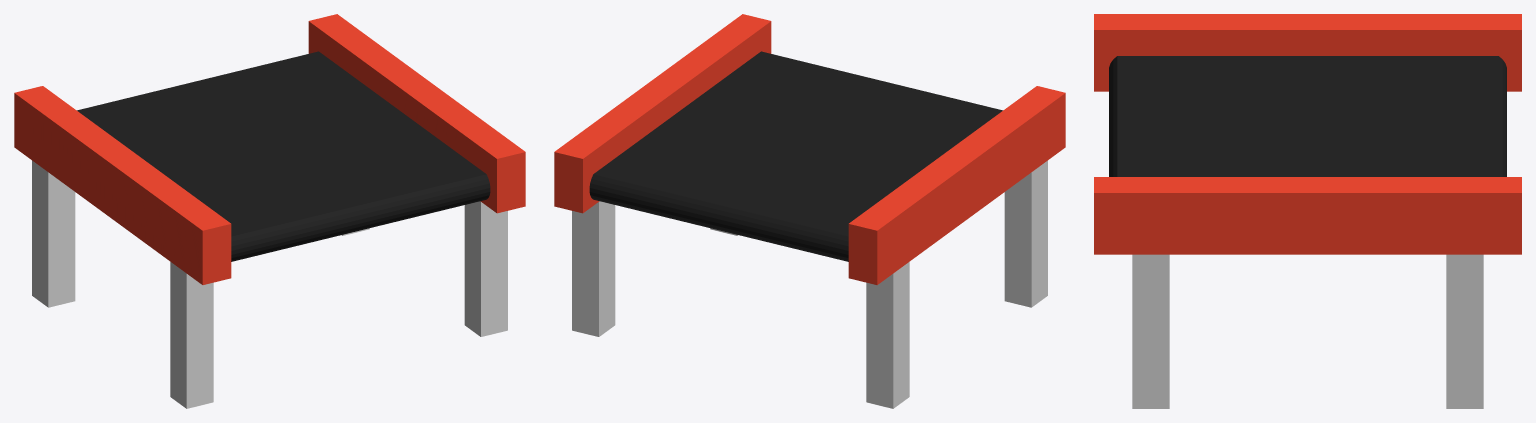
Rendered from conveyor.fbx.
3 renders of one model, left to right at view 1: azimuth 30°, elevation 25°; view 2: azimuth 150°, elevation 25°; view 3: azimuth 270°, elevation 25°, orthographic. The views are drawn at different scales.
Visible parts, largest first — view 1: Cube.002, Cube.001, Cube.003; view 2: Cube.002, Cube.001, Cube.003; view 3: Cube.001, Cube.002, Cube.003.
Boxes of the visible parts, x1,y1,x2,y2 form: Cube.002: (77, 51, 490, 261); Cube.001: (14, 14, 525, 284); Cube.003: (32, 160, 507, 408); Cube.002: (589, 51, 1002, 261); Cube.001: (554, 14, 1065, 284); Cube.003: (572, 160, 1047, 408); Cube.001: (1094, 14, 1521, 254); Cube.002: (1109, 56, 1506, 176); Cube.003: (1132, 254, 1483, 408).
Bounding box in the file's own units: 198 × 112 × 200.
